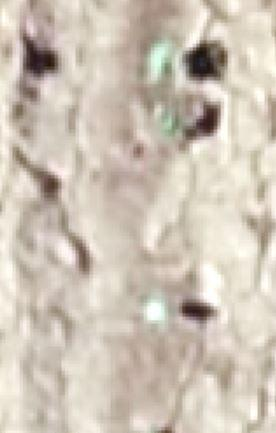cotton: (151, 45, 172, 75), (144, 299, 167, 321), (162, 116, 180, 134)
